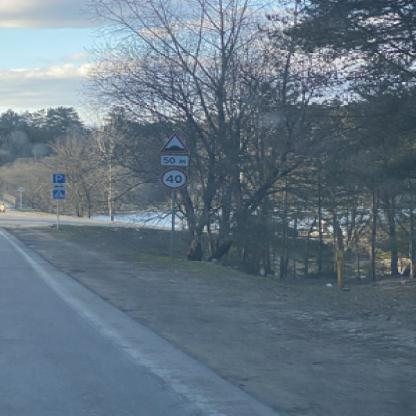crosswalk: (50, 188, 64, 199)
speedlimit: (158, 166, 186, 186)
